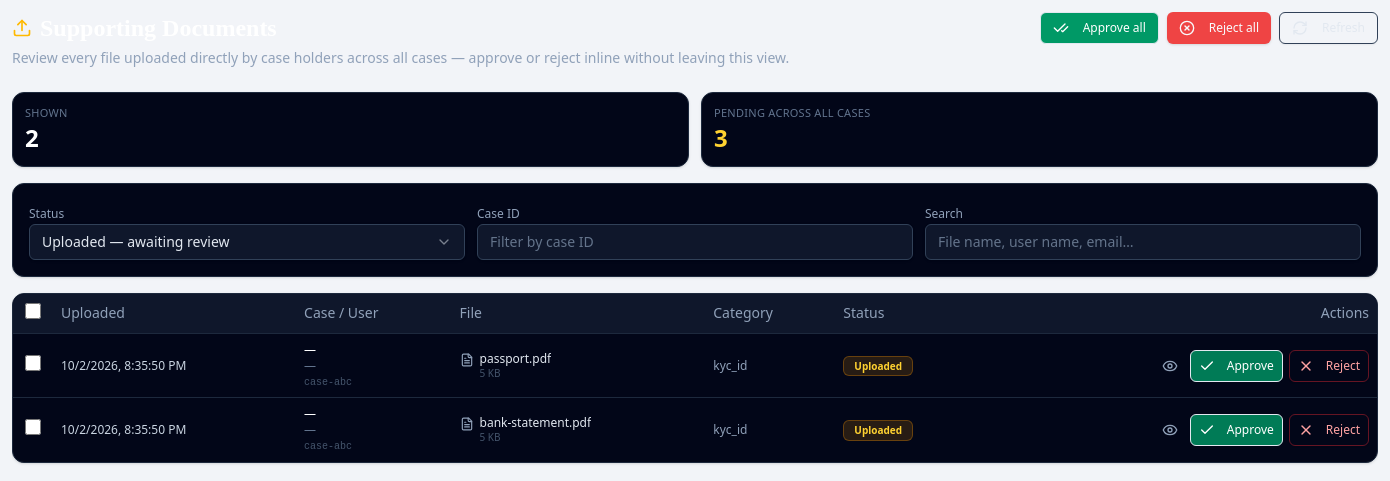
SupportingDocumentsTab – bulk approve (Task #439) › succeeded rows show approved status and failed rows remain uploaded after partial failure (Task #924)
Step 1. Click the button with test id "button-bulk-approve-supporting-docs" → click(1099, 28), box [1040,12,1159,44]
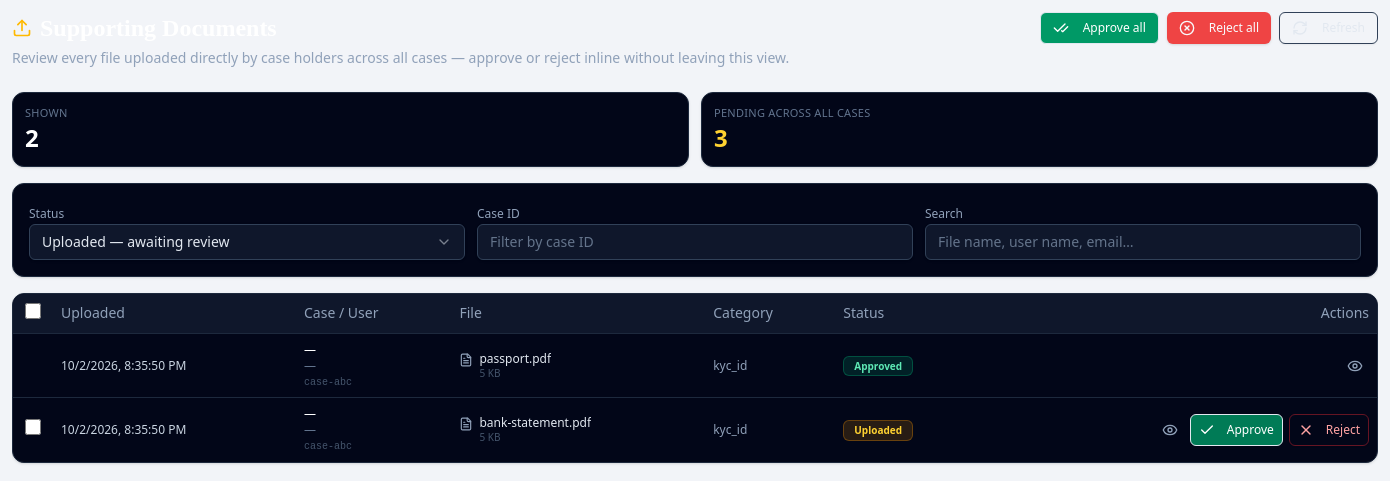
Check: the row with test id "row-supporting-doc-11" shows "uploaded", box [854,423,902,437]
Check: the row with test id "row-supporting-doc-10" shows "approved", box [854,359,902,373]
